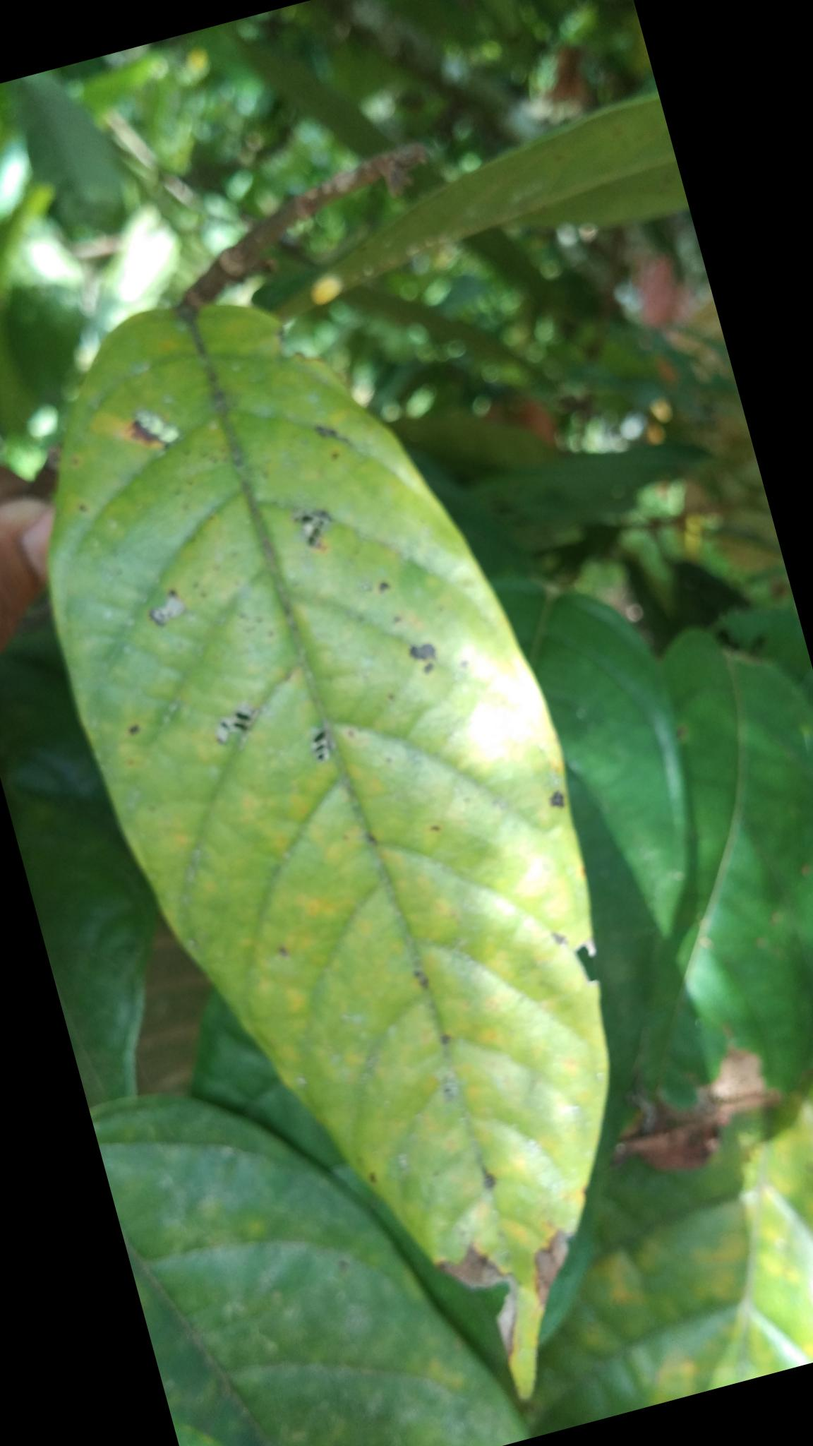Potasio: (51, 299, 616, 1408)
